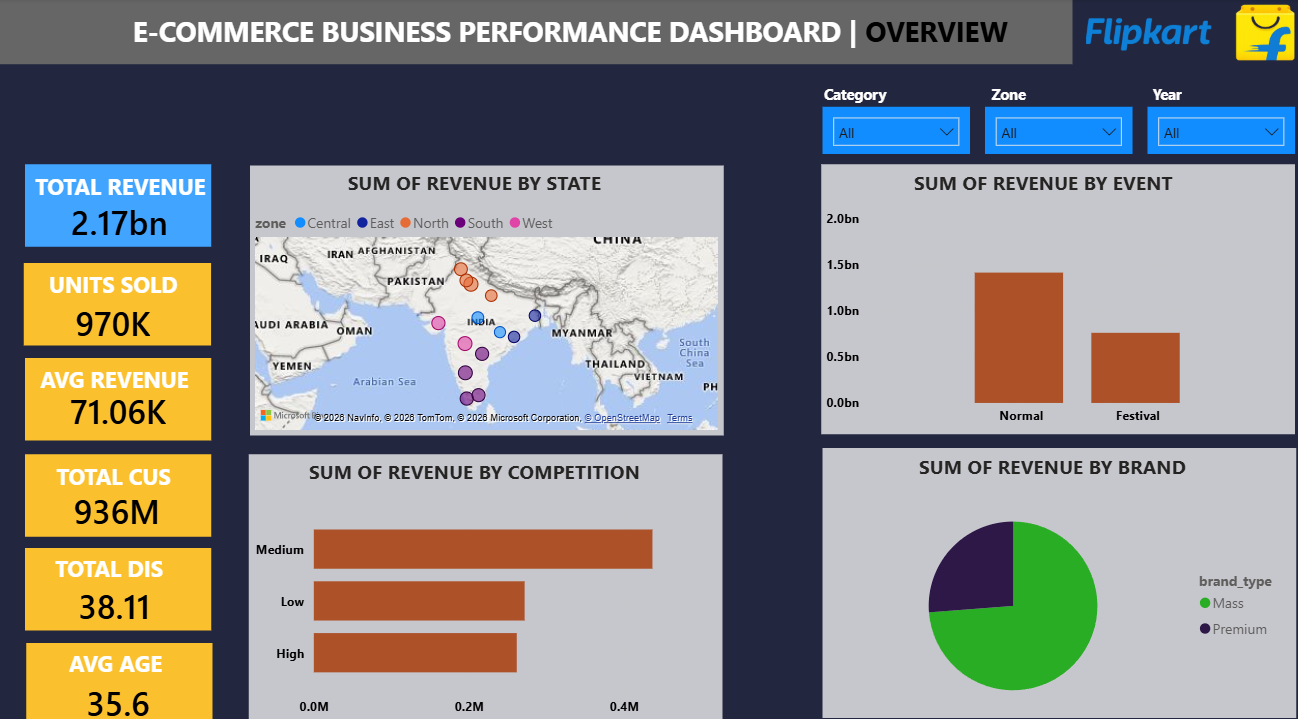

What the dashboard file says about the page in this screenshot:
{"tool":"powerbi","page":{"name":"OVERVIEW","canvas":[1280,720],"ordinal":1},"visuals":[{"type":"shape","box":[25.3,622.5,179.8,79.6],"z":0},{"type":"shape","box":[24.1,439.9,179.8,79.6],"z":1000},{"type":"shape","box":[24.4,347.2,179.8,79.6],"z":2000},{"type":"shape","box":[0,0,1035.1,63.9],"z":3000},{"type":"shape","box":[24.4,160.5,179.8,79.6],"z":4000},{"type":"textbox","box":[29,161.7,183.4,39.8],"z":5000},{"type":"cardVisual","fields":{"Data":["Sum(sales.revenue)"]},"box":[25.3,173.7,181,82],"z":6000},{"type":"image","box":[1021.9,0,258.2,63.9],"z":7000},{"type":"textbox","box":[61.5,622.5,108.6,38.6],"z":8000},{"type":"cardVisual","fields":{"Data":["sales.AVG AGE"]},"box":[29,641.8,170.1,74.8],"z":9000},{"type":"textbox","box":[33.8,348.7,173.7,38.6],"z":10000},{"type":"cardVisual","fields":{"Data":["sales.AVG REV PER ORDER"]},"box":[29,359.5,170.1,74.8],"z":11000},{"type":"slicer","fields":{"Values":["sales.year"]},"box":[1107.5,105,142.4,45.8],"z":12000},{"type":"shape","box":[241.5,161.4,457.2,260.6],"z":13000},{"type":"shape","box":[792.6,160.5,457.2,260.6],"z":14000},{"type":"shape","box":[23.2,256.2,181,79.6],"z":15000},{"type":"shape","box":[240.1,440.4,457.2,260.6],"z":16000},{"type":"shape","box":[793.8,434.3,457.2,260.6],"z":17000},{"type":"map","fields":{"Series":["sales.zone"],"Size":["Sum(sales.revenue)"],"Category":["sales.state"]},"box":[241.3,196.6,457.2,225.6],"z":18000},{"type":"textbox","box":[330.6,160.5,304,35],"z":19000},{"type":"textbox","box":[293.2,439.1,355.9,38.6],"z":20000},{"type":"textbox","box":[877.1,160.5,316.1,35],"z":21000},{"type":"textbox","box":[881.9,434.3,305.2,35],"z":22000},{"type":"barChart","fields":{"Category":["sales.competition_intensity"],"Y":["Sum(sales.units_sold)"]},"box":[240.1,480.2,457.2,222],"z":23000},{"type":"clusteredColumnChart","fields":{"Y":["Sum(sales.revenue)"],"Category":["sales.sales_event"]},"box":[792.6,199.1,457.2,222],"z":24000},{"type":"pieChart","fields":{"Y":["Sum(sales.revenue)"],"Category":["sales.brand_type"]},"box":[793.8,480.2,457.2,213.5],"z":25000},{"type":"shape","box":[24.1,530.8,179.8,79.6],"z":26000},{"type":"cardVisual","fields":{"Data":["Sum(sales.units_sold)"]},"box":[24.4,275.6,170.1,74.8],"z":27000},{"type":"textbox","box":[42.5,257.5,142.4,38.6],"z":28000},{"type":"cardVisual","fields":{"Data":["Sum(sales.TOTAL CUSTOMER)"]},"box":[27.7,456,170.1,74.8],"z":29000},{"type":"textbox","box":[49.5,441.6,132.7,38.6],"z":30000},{"type":"textbox","box":[48.3,530.8,149.6,38.6],"z":31000},{"type":"cardVisual","fields":{"Data":["sales.Avg dis"]},"box":[25.3,547.7,170.1,74.8],"z":32000},{"type":"slicer","fields":{"Values":["sales.year"]},"box":[950.7,105,142.4,45.8],"z":33000},{"type":"slicer","fields":{"Values":["sales.year"]},"box":[793.8,105,142.4,45.8],"z":34000},{"type":"textbox","box":[790.2,78.4,85.7,35],"z":35000},{"type":"textbox","box":[951.9,78.4,59.1,39.8],"z":36000},{"type":"textbox","box":[1107.5,78.4,83.2,35],"z":37000},{"type":"textbox","box":[115.8,8.4,889.1,55.5],"z":38000}]}

Visuals, with their boxes in screenshot pixels (x1, y1, x2, y2), scaled from the page's 1280x720 canvas onto the 1298x719 screenshot:
shape: (left=26, top=622, right=208, bottom=701)
shape: (left=24, top=439, right=207, bottom=519)
shape: (left=25, top=347, right=207, bottom=426)
shape: (left=0, top=0, right=1050, bottom=64)
shape: (left=25, top=160, right=207, bottom=240)
textbox: (left=29, top=161, right=215, bottom=201)
cardVisual - Sum(sales.revenue): (left=26, top=173, right=209, bottom=255)
image: (left=1036, top=0, right=1297, bottom=64)
textbox: (left=62, top=622, right=172, bottom=660)
cardVisual - sales.AVG AGE: (left=29, top=641, right=202, bottom=716)
textbox: (left=34, top=348, right=210, bottom=387)
cardVisual - sales.AVG REV PER ORDER: (left=29, top=359, right=202, bottom=434)
slicer - sales.year: (left=1123, top=105, right=1267, bottom=151)
shape: (left=245, top=161, right=709, bottom=421)
shape: (left=804, top=160, right=1267, bottom=421)
shape: (left=24, top=256, right=207, bottom=335)
shape: (left=243, top=440, right=707, bottom=700)
shape: (left=805, top=434, right=1269, bottom=694)
map - sales.zone x Sum(sales.revenue): (left=245, top=196, right=708, bottom=422)
textbox: (left=335, top=160, right=644, bottom=195)
textbox: (left=297, top=438, right=658, bottom=477)
textbox: (left=889, top=160, right=1210, bottom=195)
textbox: (left=894, top=434, right=1204, bottom=469)
barChart - sales.competition_intensity x Sum(sales.units_sold): (left=243, top=480, right=707, bottom=701)
clusteredColumnChart - Sum(sales.revenue) x sales.sales_event: (left=804, top=199, right=1267, bottom=421)
pieChart - Sum(sales.revenue) x sales.brand_type: (left=805, top=480, right=1269, bottom=693)
shape: (left=24, top=530, right=207, bottom=610)
cardVisual - Sum(sales.units_sold): (left=25, top=275, right=197, bottom=350)
textbox: (left=43, top=257, right=188, bottom=296)
cardVisual - Sum(sales.TOTAL CUSTOMER): (left=28, top=455, right=201, bottom=530)
textbox: (left=50, top=441, right=185, bottom=480)
textbox: (left=49, top=530, right=201, bottom=569)
cardVisual - sales.Avg dis: (left=26, top=547, right=198, bottom=622)
slicer - sales.year: (left=964, top=105, right=1108, bottom=151)
slicer - sales.year: (left=805, top=105, right=949, bottom=151)
textbox: (left=801, top=78, right=888, bottom=113)
textbox: (left=965, top=78, right=1025, bottom=118)
textbox: (left=1123, top=78, right=1207, bottom=113)
textbox: (left=117, top=8, right=1019, bottom=64)
